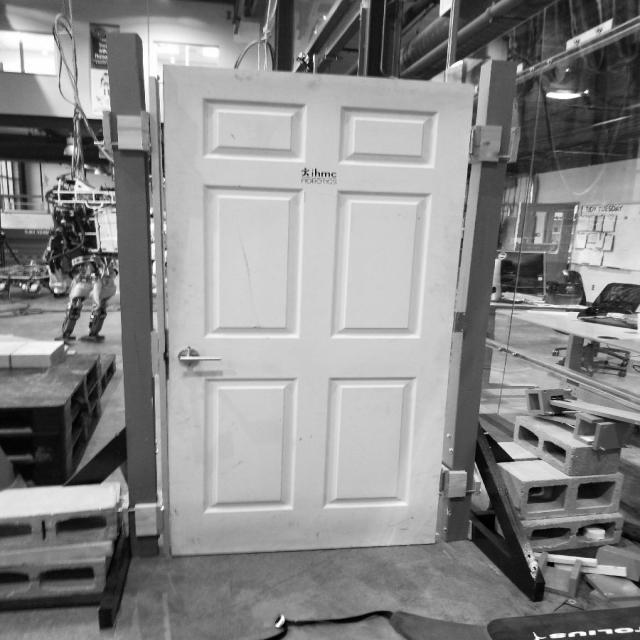door: (157, 60, 477, 568), (172, 346, 226, 367)
